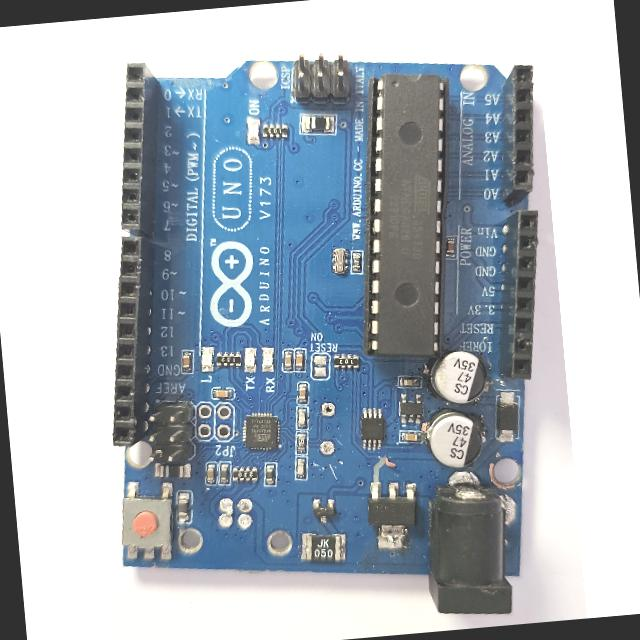missing_crystal_os: (311, 390, 351, 471)
missing_usb: (195, 491, 296, 562)
